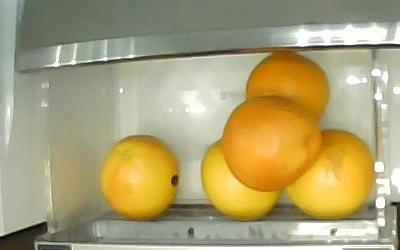grapefruit: (220, 94, 323, 192), (283, 127, 374, 218), (98, 133, 180, 218), (200, 135, 279, 220), (245, 51, 330, 119)
